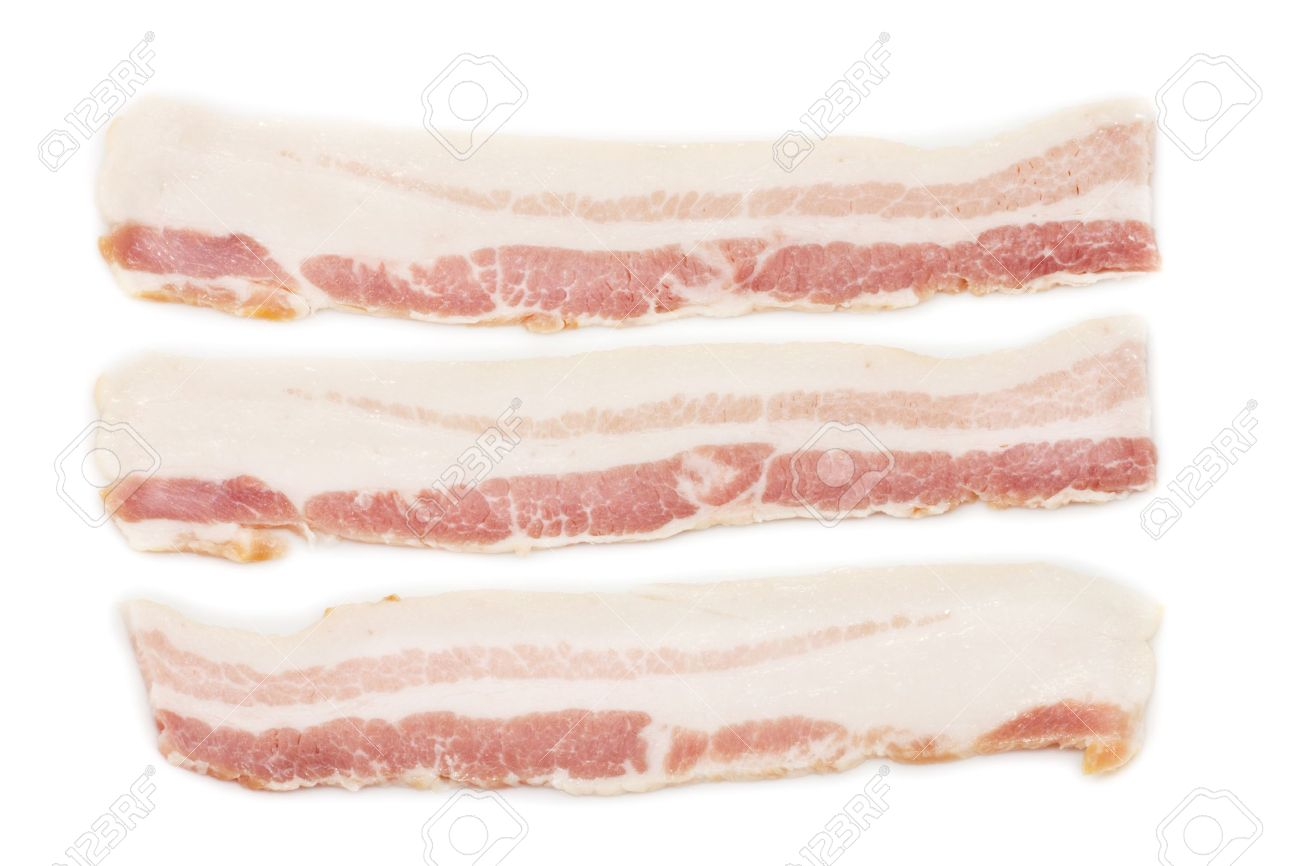bacon: (104, 92, 1180, 789)
